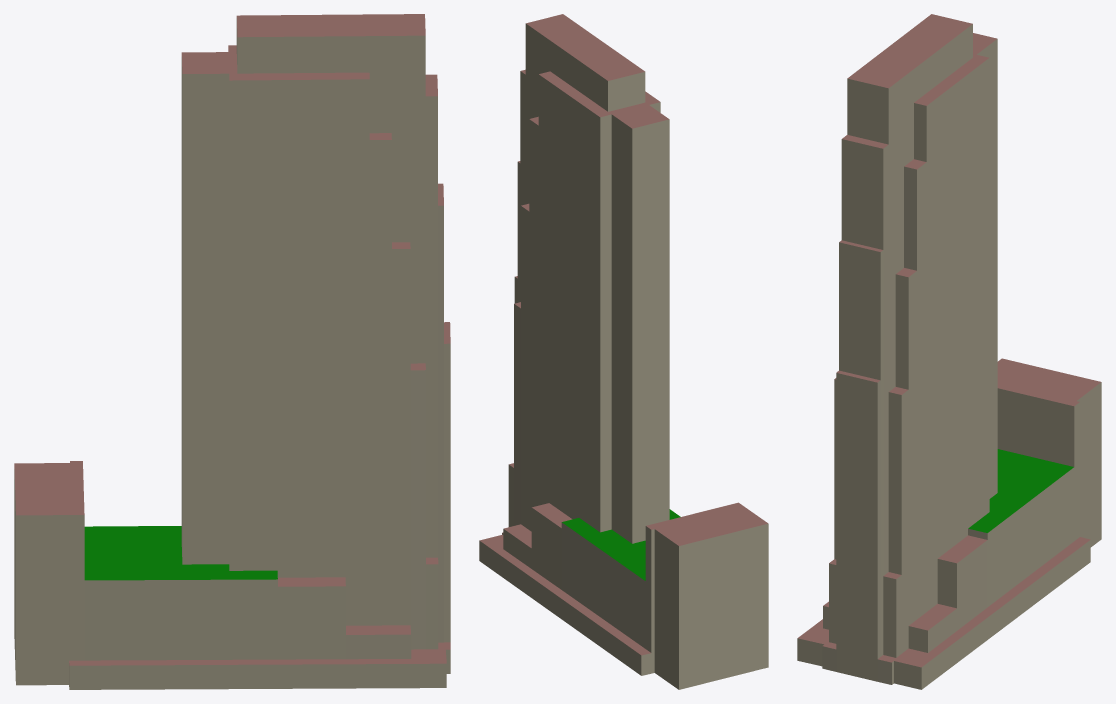
File: 30-rock.glb
The picture shows the model from 3 angles, left to right: view 1: azimuth 30°, elevation 25°; view 2: azimuth 150°, elevation 25°; view 3: azimuth 270°, elevation 25°; orthographic projection. The views are drawn at different scales.
Parts seen in each view (by area): view 1: 30 Rockefeller Plaza (Comcast Building); view 2: 30 Rockefeller Plaza (Comcast Building); view 3: 30 Rockefeller Plaza (Comcast Building).
Part boxes in pixels (box(x1,y1,x2,y2)): 30 Rockefeller Plaza (Comcast Building): box(14, 14, 450, 689); 30 Rockefeller Plaza (Comcast Building): box(479, 14, 768, 689); 30 Rockefeller Plaza (Comcast Building): box(797, 14, 1101, 689).
Size of the model in its own units: 166 by 260 by 123.
